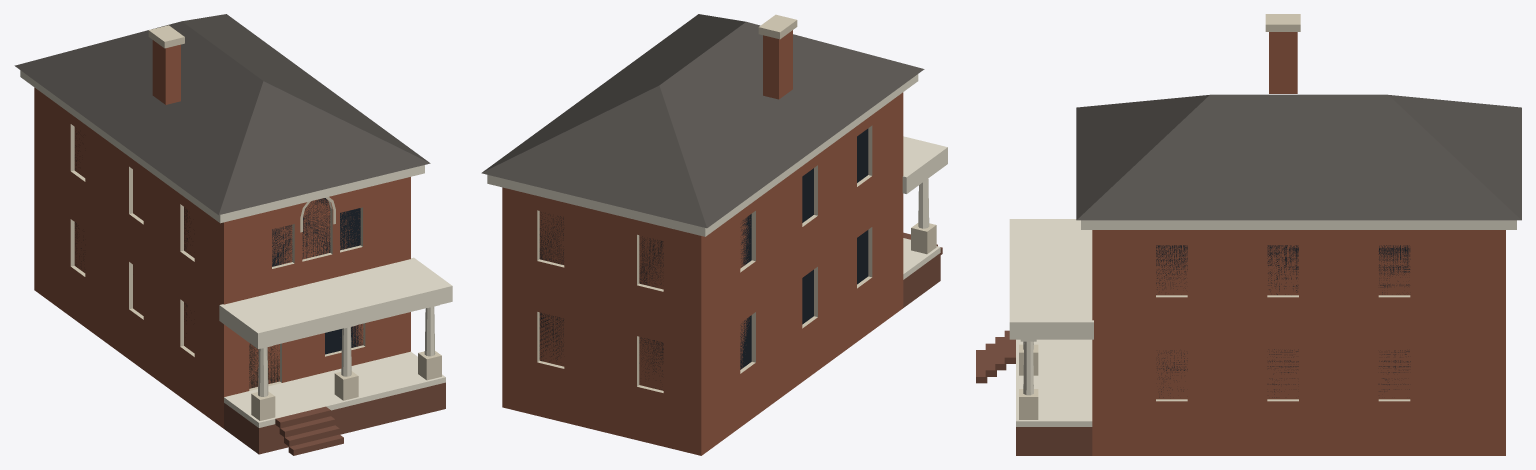
File: bracy-manning-house.glb
3 renders of one model, left to right at view 1: azimuth 30°, elevation 25°; view 2: azimuth 150°, elevation 25°; view 3: azimuth 270°, elevation 25°, orthographic. The views are drawn at different scales.
Visible parts, largest first — view 1: bracy_brick, bracy_roof, bracy_trim, bracy_base, bracy_stone, bracy_glass, bracy_wood, bracy_door; view 2: bracy_brick, bracy_roof, bracy_trim, bracy_glass, bracy_stone, bracy_base, bracy_wood; view 3: bracy_brick, bracy_roof, bracy_trim, bracy_base, bracy_glass, bracy_stone, bracy_wood.
Boxes of the visible parts, x1=… form: bracy_brick: x1=34, y1=40, x2=410, y2=428; bracy_roof: x1=14, y1=14, x2=430, y2=215; bracy_trim: x1=20, y1=70, x2=452, y2=427; bracy_base: x1=224, y1=382, x2=445, y2=455; bracy_stone: x1=70, y1=25, x2=441, y2=420; bracy_glass: x1=74, y1=133, x2=362, y2=354; bracy_wood: x1=258, y1=306, x2=435, y2=396; bracy_door: x1=249, y1=343, x2=279, y2=388; bracy_brick: x1=502, y1=30, x2=903, y2=455; bracy_roof: x1=481, y1=14, x2=924, y2=228; bracy_trim: x1=487, y1=74, x2=947, y2=279; bracy_glass: x1=539, y1=128, x2=868, y2=389; bracy_stone: x1=537, y1=14, x2=936, y2=392; bracy_base: x1=903, y1=232, x2=942, y2=307; bracy_wood: x1=918, y1=179, x2=929, y2=228; bracy_brick: x1=1092, y1=32, x2=1505, y2=455; bracy_roof: x1=1076, y1=94, x2=1521, y2=220; bracy_trim: x1=1009, y1=219, x2=1516, y2=426; bracy_base: x1=976, y1=330, x2=1092, y2=455; bracy_glass: x1=1156, y1=245, x2=1410, y2=397; bracy_stone: x1=1019, y1=14, x2=1410, y2=419; bracy_wood: x1=1023, y1=341, x2=1033, y2=395.
Size of the model in its own units: 8.4 by 12.25 by 17.15.
